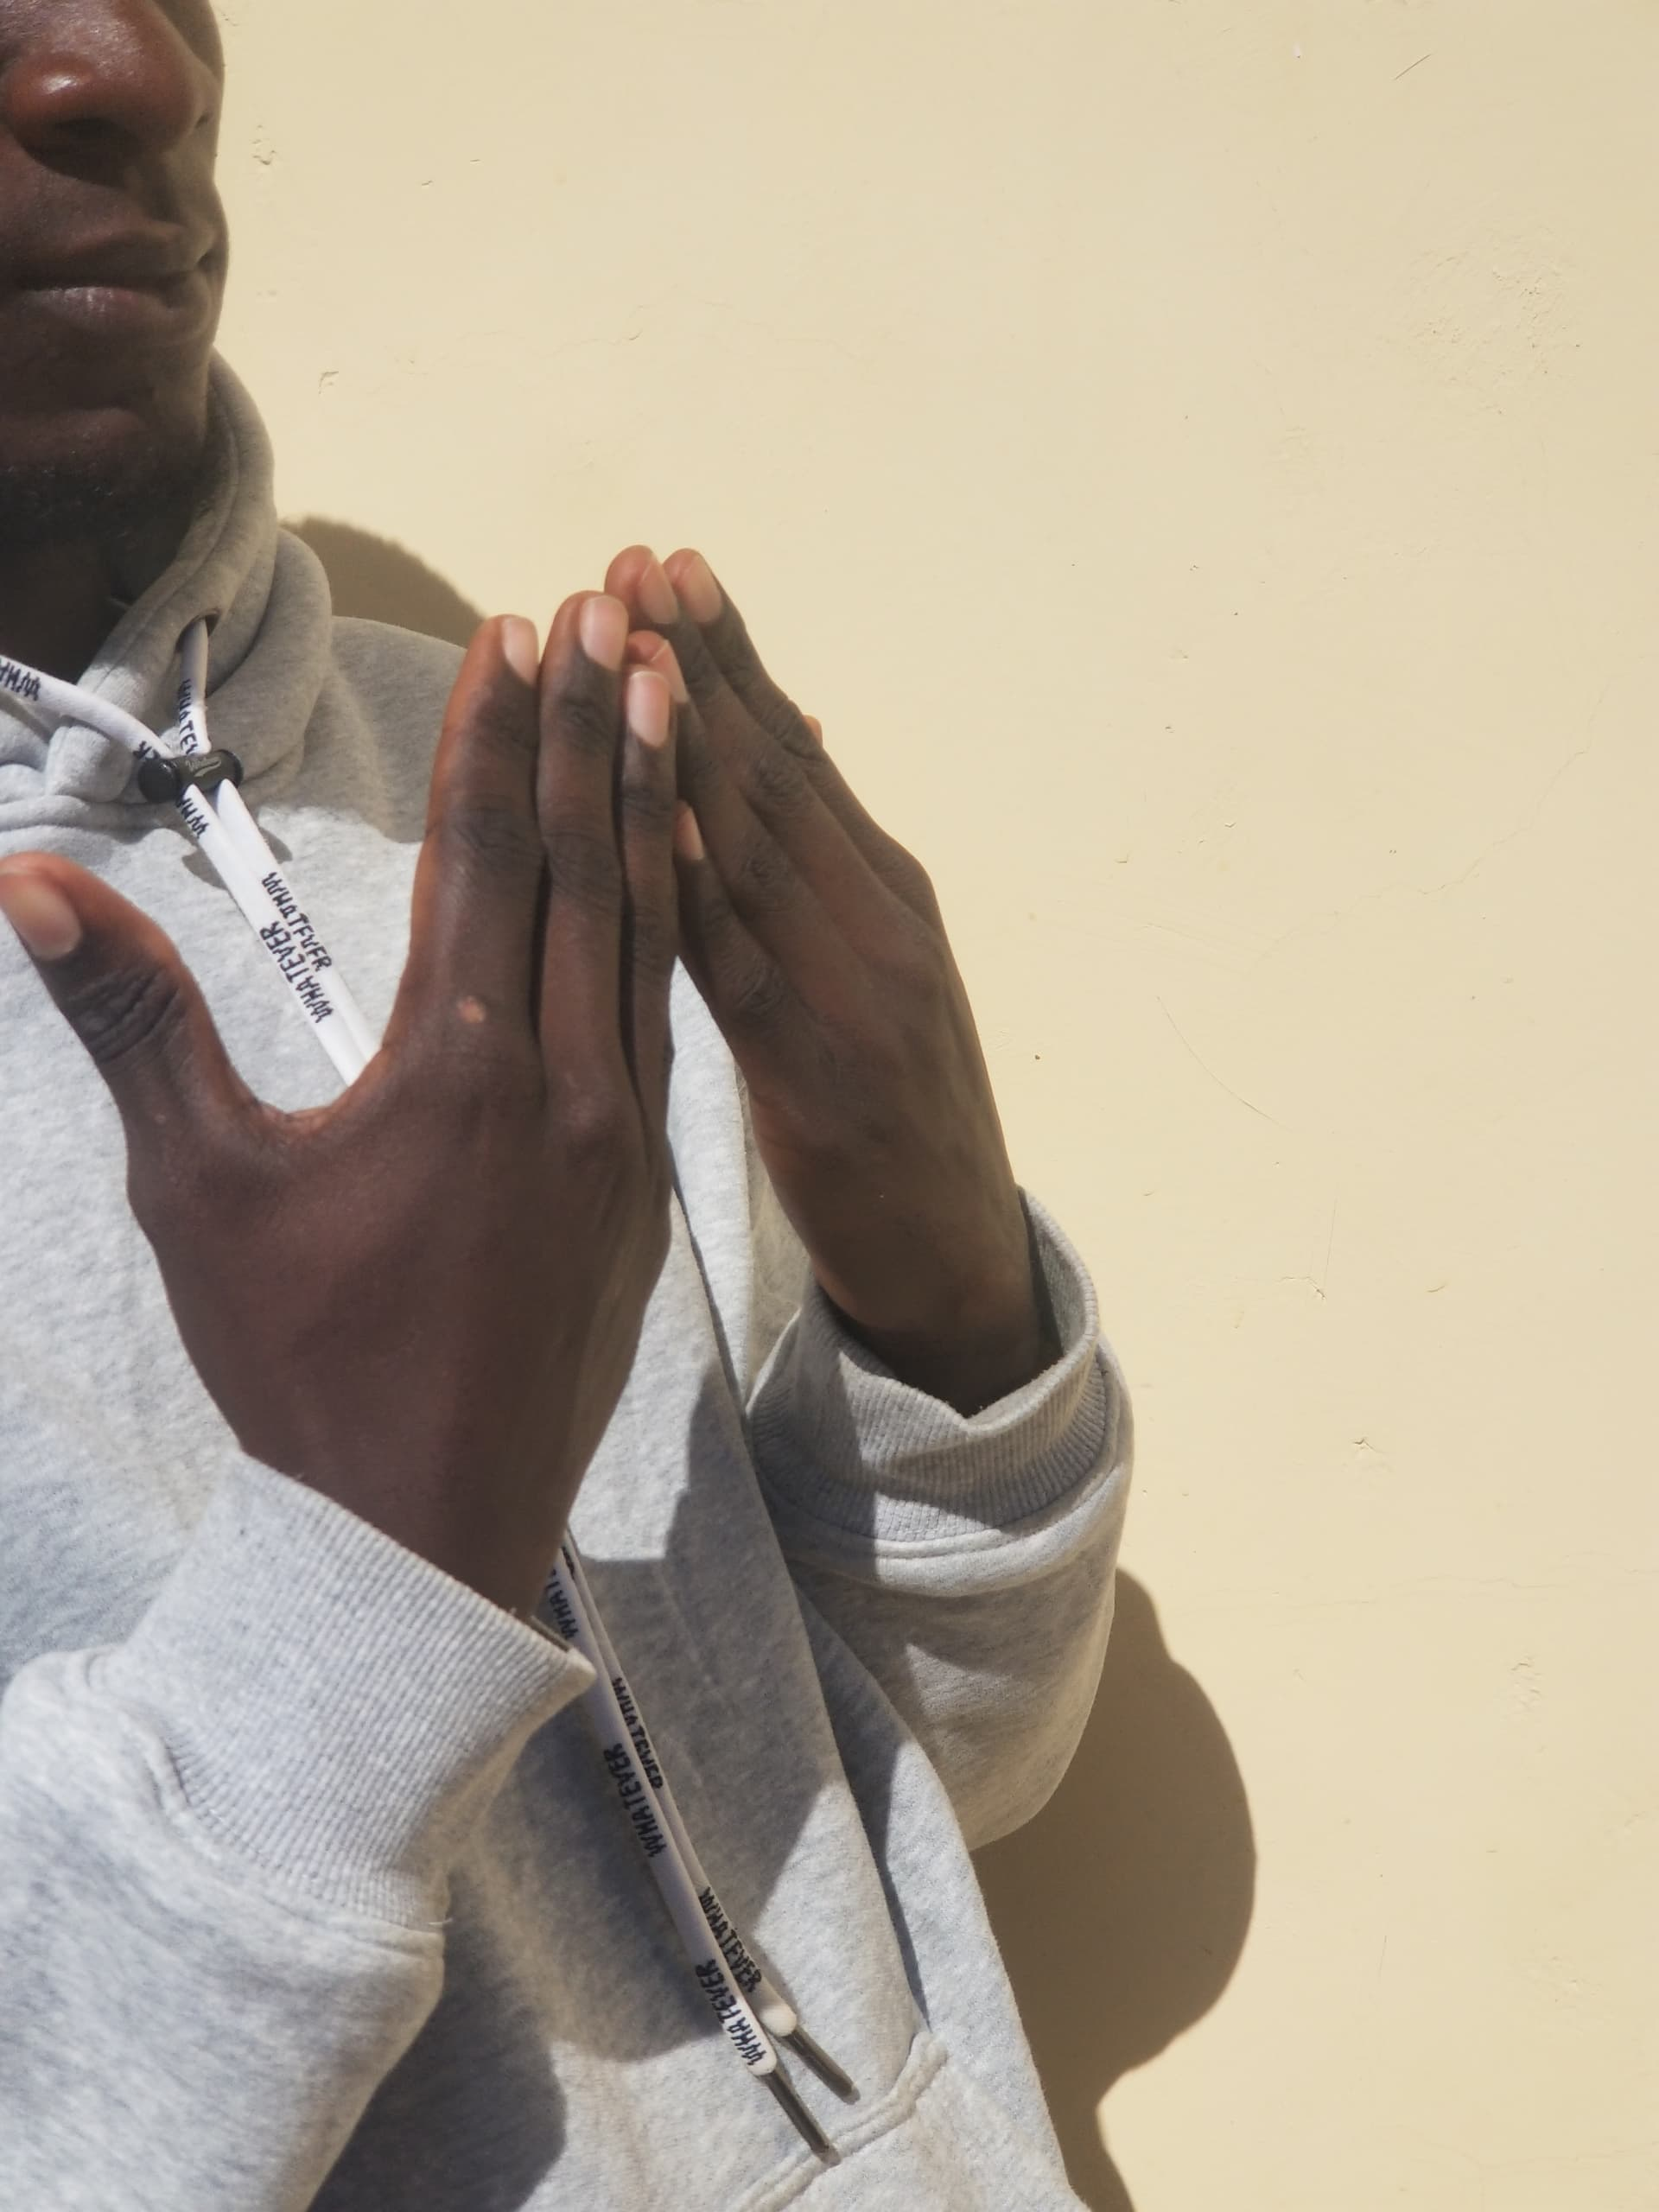okay: (0, 441, 1075, 1726)
